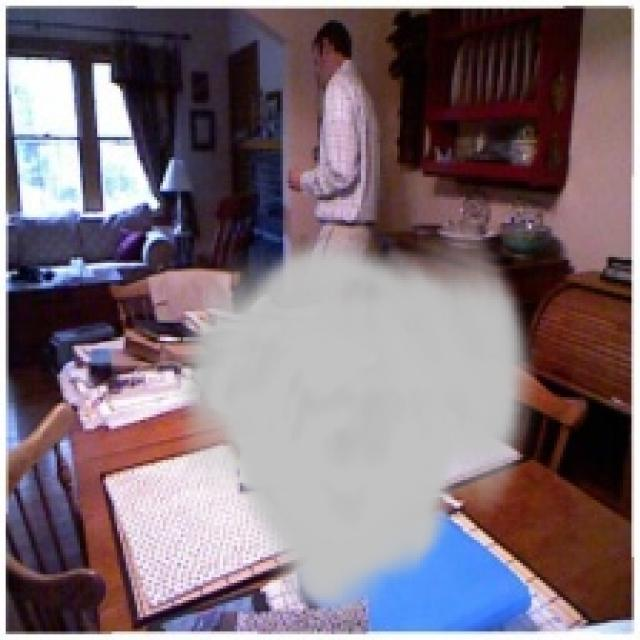smoke: (166, 231, 537, 623)
